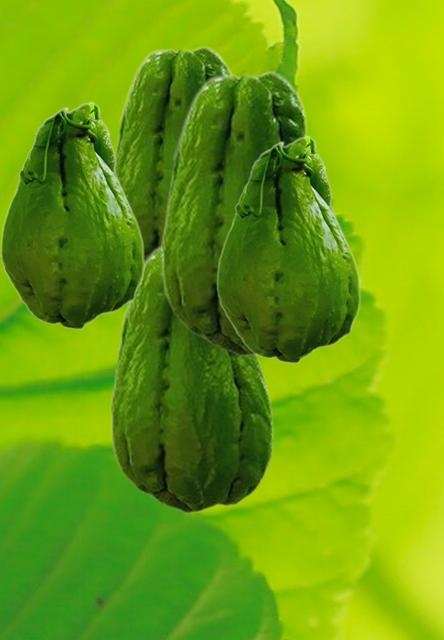sayote: (110, 244, 273, 513), (161, 70, 310, 356), (0, 101, 144, 329), (216, 135, 360, 363), (113, 45, 232, 256)
